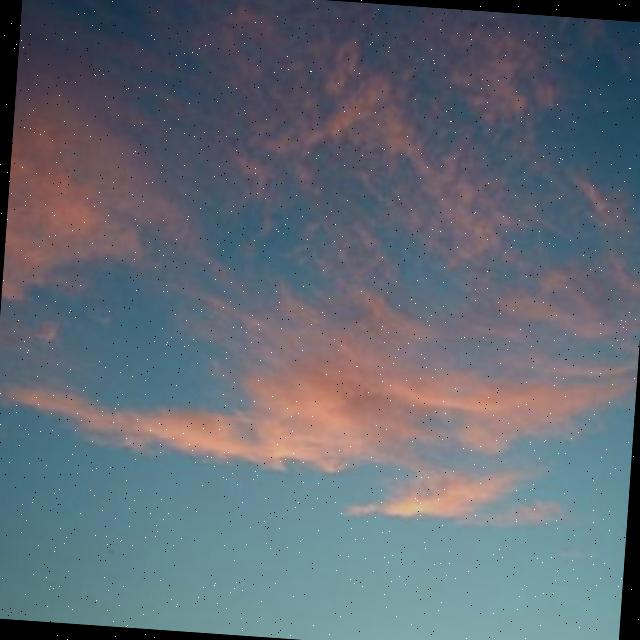Cc: (1, 1, 640, 508)
